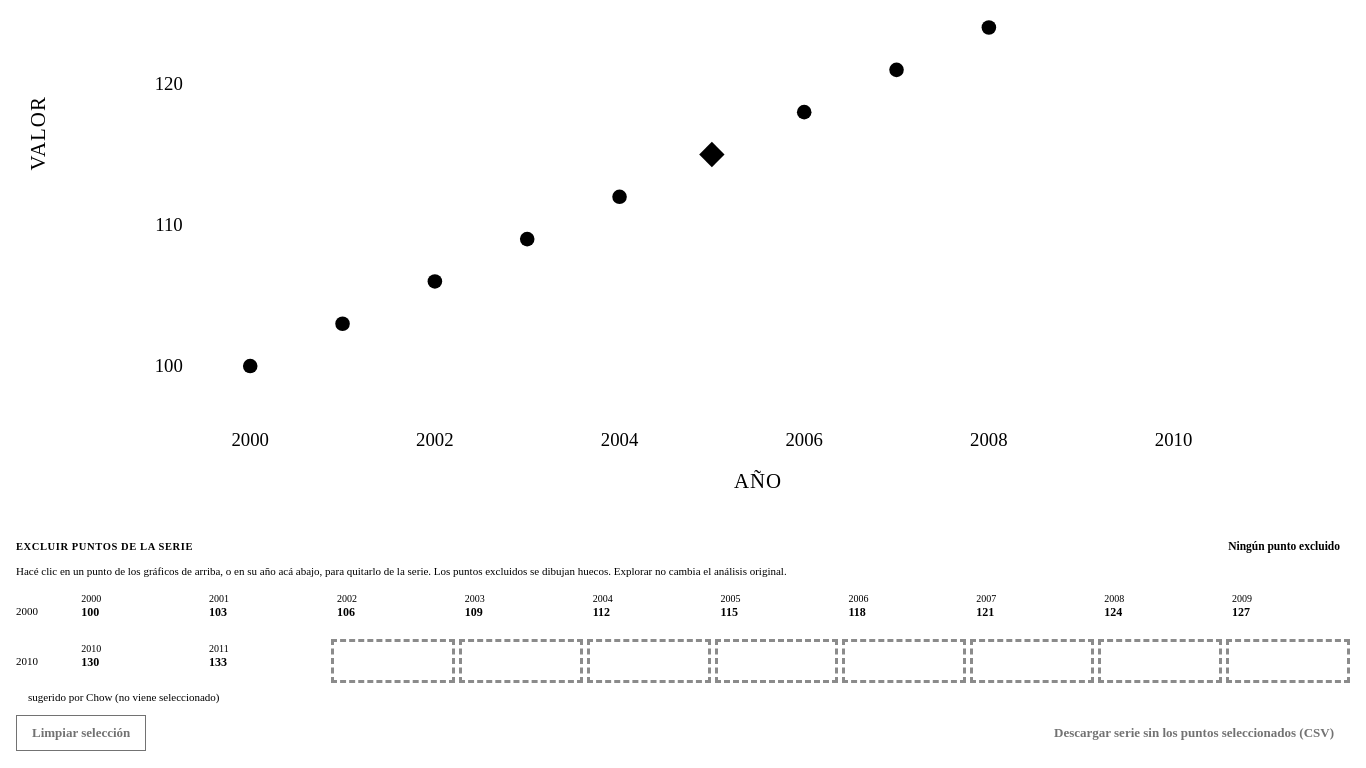
Test: Etapa1GraficosView — exclusión de puntos › marcar un año en la lista lo dibuja hueco en los DOS gráficos; Limpiar lo deshace
The image size is (1366, 768).
(page scrolled)
Step 1. Click the button "2003 109" → (521, 611), box top-left (459, 589), bottom-right (583, 633)
(page scrolled)
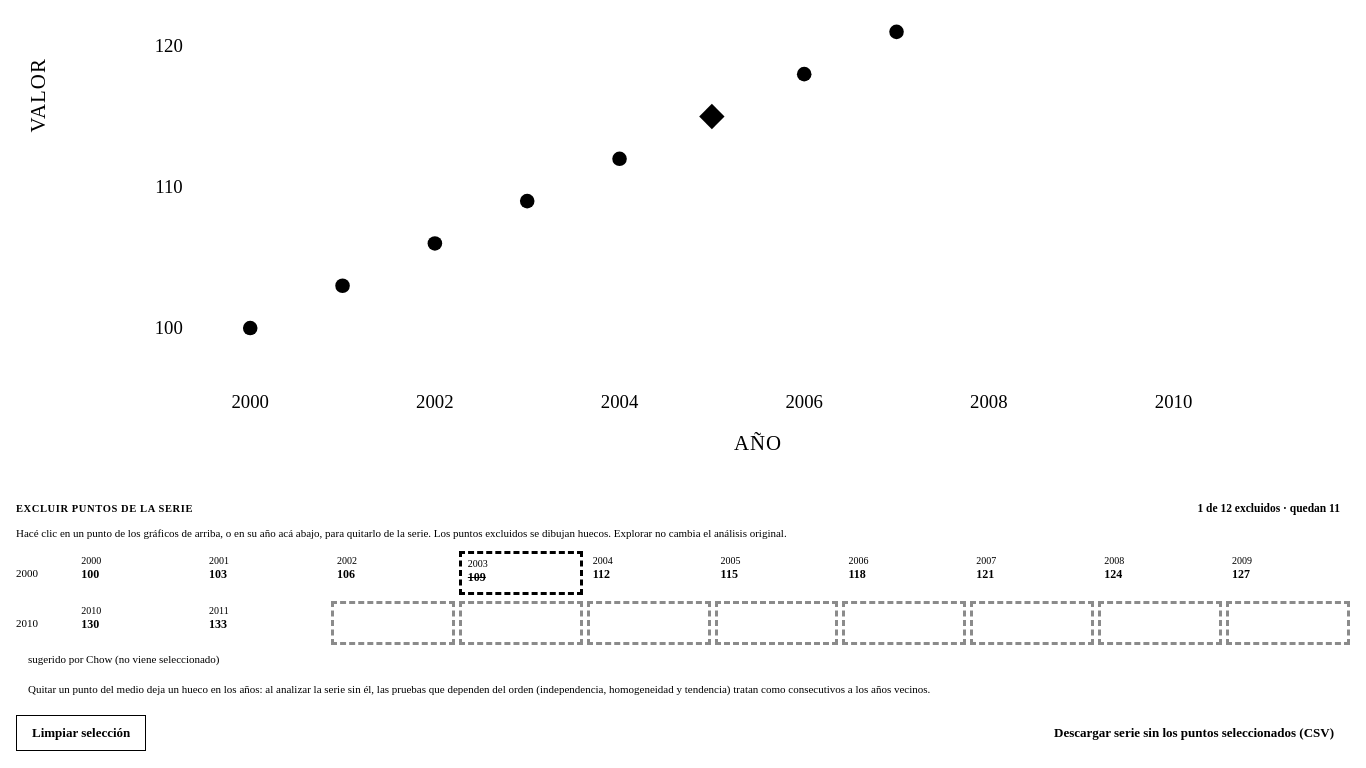
expect the text "1 de 12 excluidos · quedan 11" is shown: met, box top-left (1188, 500), bottom-right (1350, 516)
expect the button "Descargar serie sin los puntos seleccionados (CSV)" is enabled: met, box top-left (1038, 715), bottom-right (1350, 751)
Step 2. Click the button "Limpiar selección" → (81, 733), box top-left (16, 715), bottom-right (146, 751)
(page scrolled)
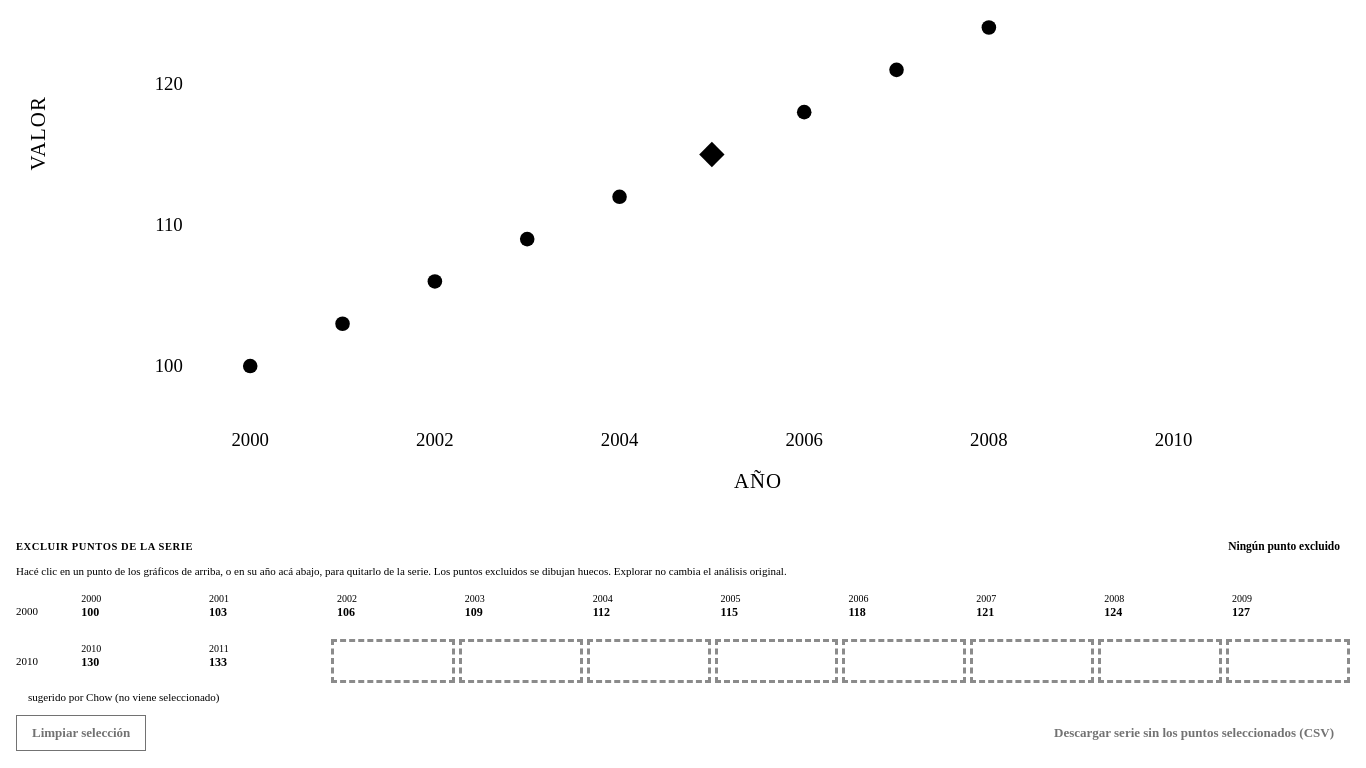
expect the text "Ningún punto excluido" is shown: met, box top-left (1228, 540), bottom-right (1340, 552)
